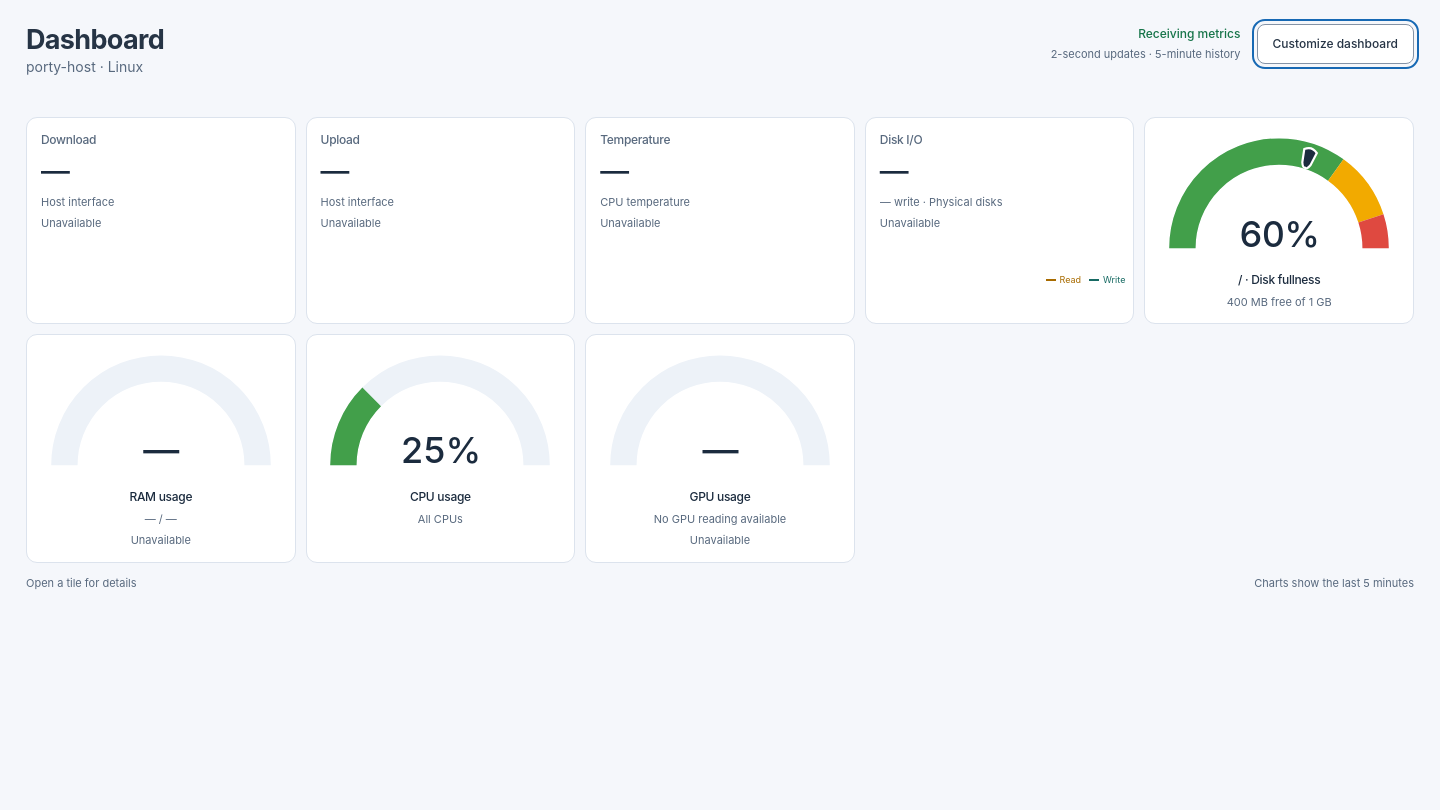
it: keeps the picker usable when storage fails and restores focus on Escape
This screenshot has width=1440, height=810.
Click the button "Customize dashboard". click: (1335, 44)
box: x1=1256 y1=24 x2=1414 y2=64
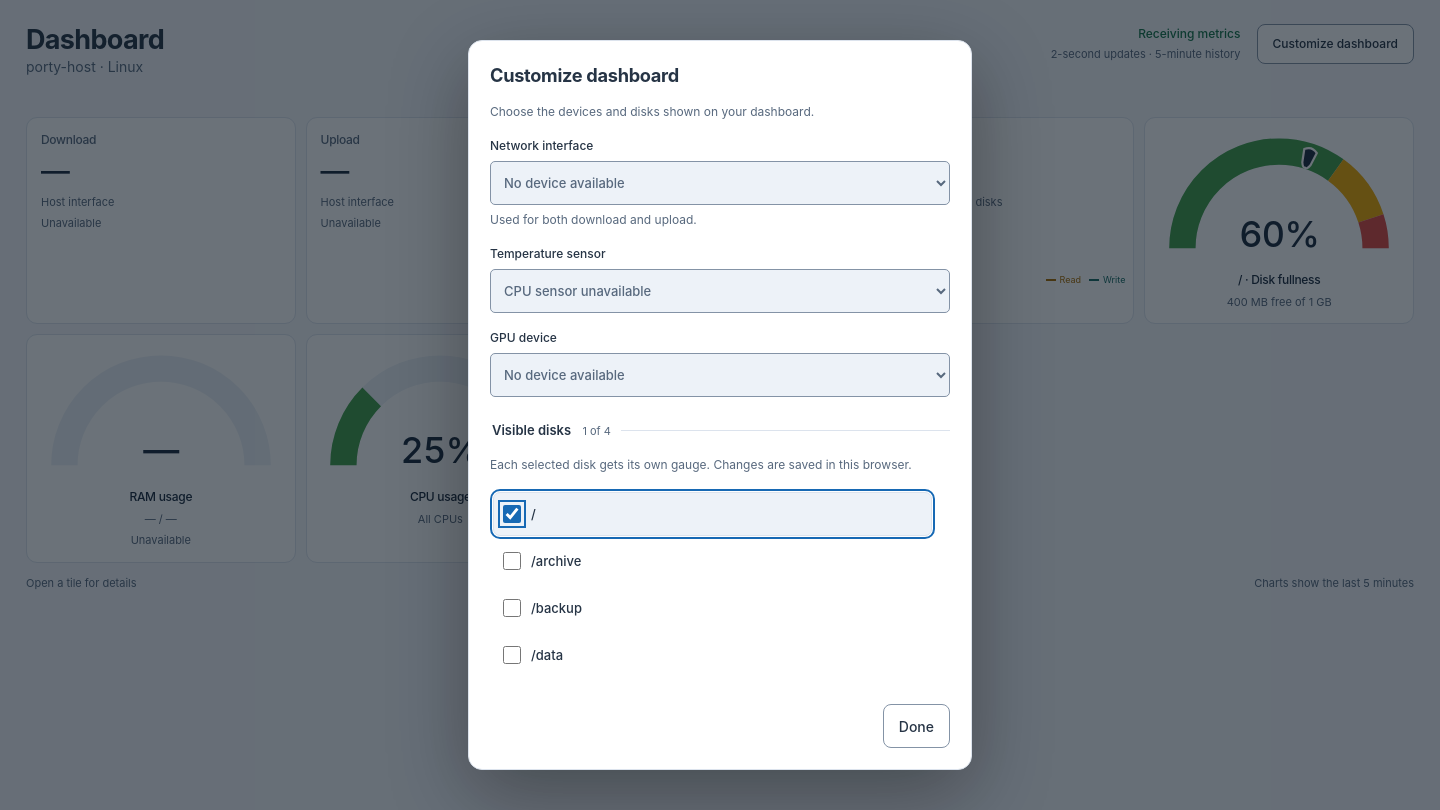
Click the checkbox labelled "/data". click: (512, 655)
box: x1=503 y1=646 x2=521 y2=664
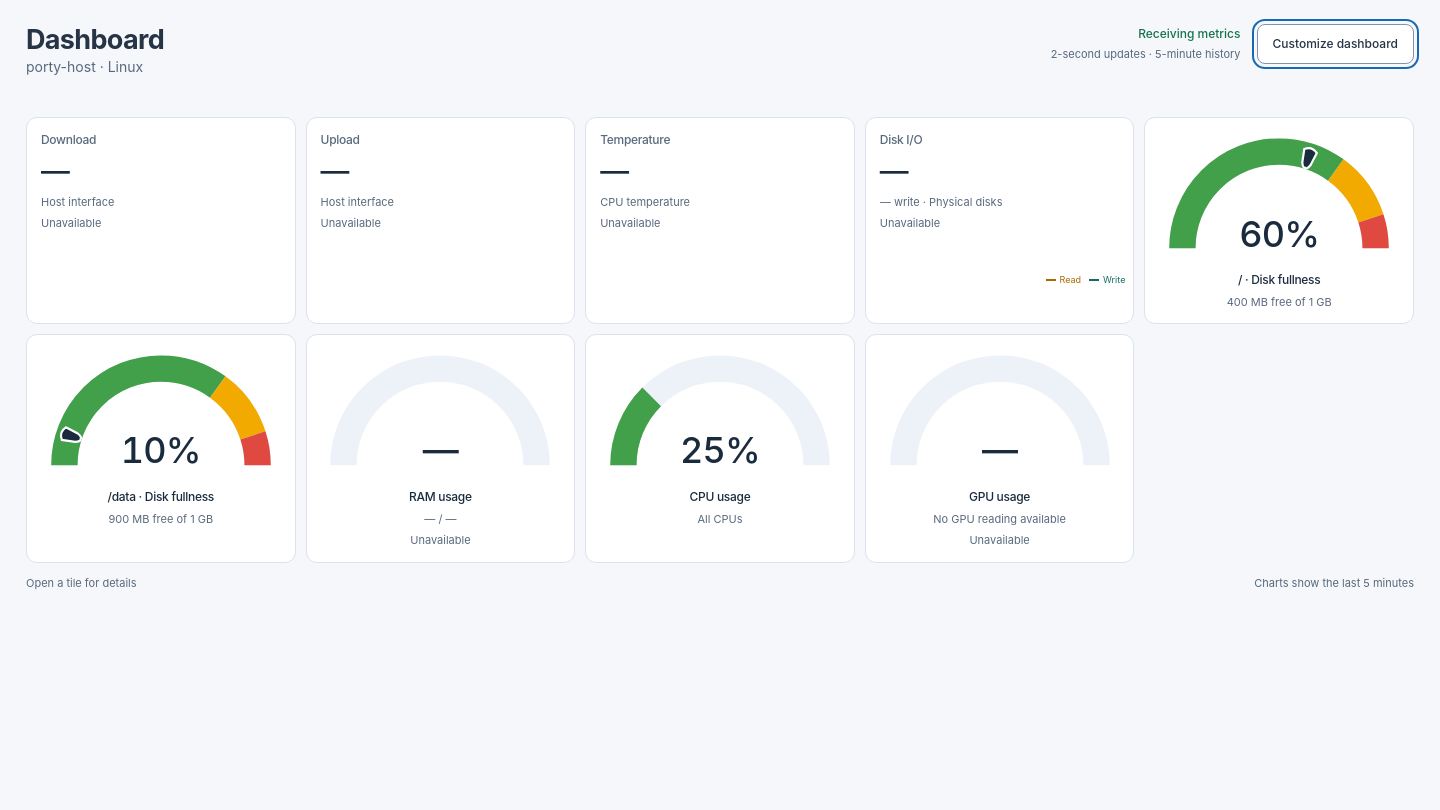
Result: the checkbox is gone
Result: the number of elements named "disk fullness" is 2 at x1=1167 y1=134 x2=1391 y2=262; x1=49 y1=351 x2=273 y2=479
